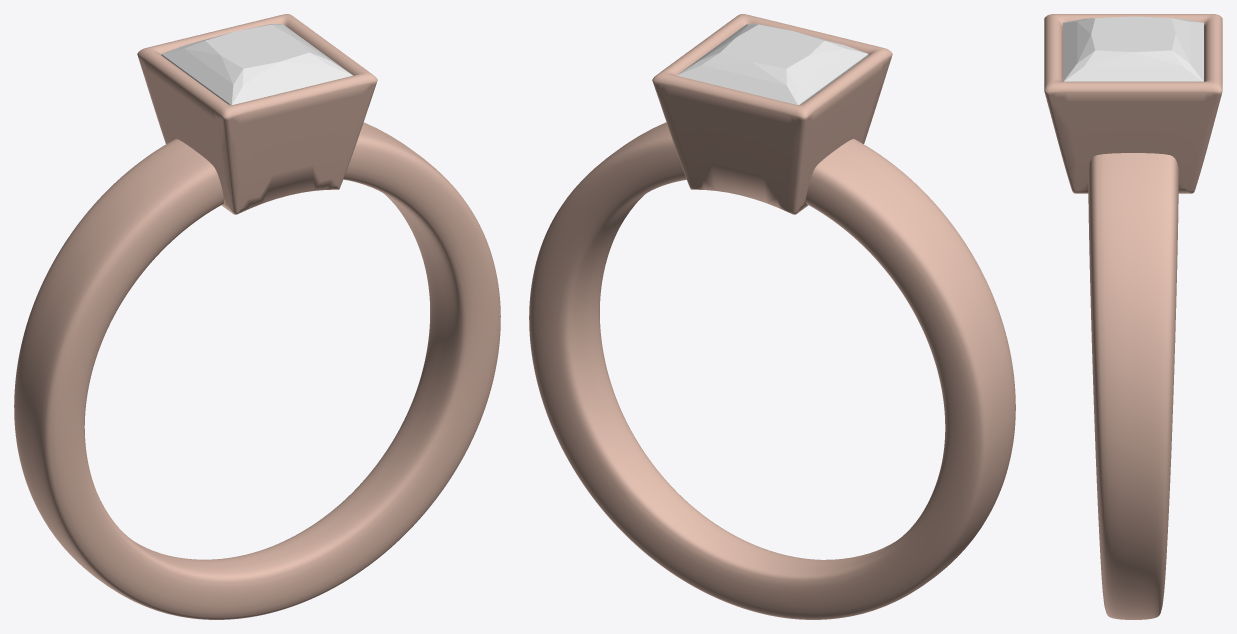
File: diamond-princess-rosegold-bezelset-straighttaperedband-solitaire.glb
The picture shows the model from 3 angles, left to right: view 1: azimuth 30°, elevation 25°; view 2: azimuth 150°, elevation 25°; view 3: azimuth 270°, elevation 25°; orthographic projection.
Parts seen in each view (by area): view 1: metal, stone; view 2: metal, stone; view 3: metal, stone.
Boxes of the visible parts, <box> form: metal: <box>14,14,500,619</box>; stone: <box>161,24,352,104</box>; metal: <box>529,14,1015,619</box>; stone: <box>677,24,868,104</box>; metal: <box>1044,14,1222,619</box>; stone: <box>1063,16,1203,81</box>.
Bounding box in the file's own units: 20.51 × 23.85 × 6.89.
